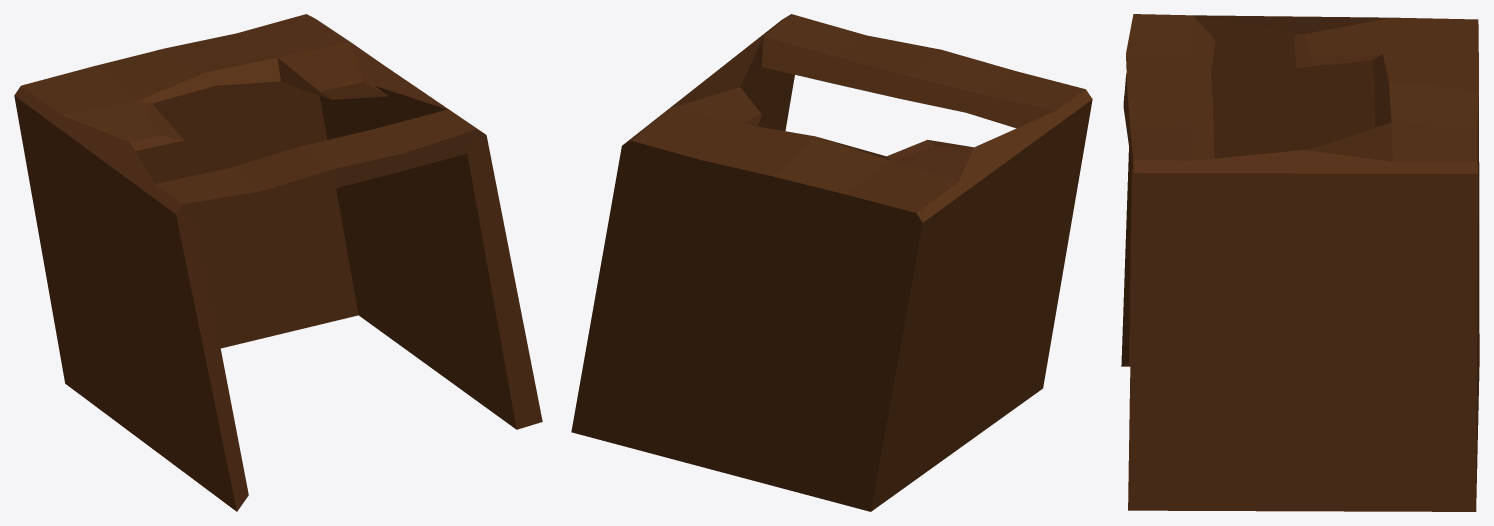
The model's file is woodshelter.fbx.
The picture shows the model from 3 angles, left to right: view 1: azimuth 30°, elevation 25°; view 2: azimuth 150°, elevation 25°; view 3: azimuth 270°, elevation 25°; orthographic projection. The views are drawn at different scales.
Parts seen in each view (by area): view 1: Cube; view 2: Cube; view 3: Cube.
Boxes of the visible parts, x1=… form: Cube: x1=14, y1=14, x2=542, y2=511; Cube: x1=571, y1=14, x2=1092, y2=511; Cube: x1=1121, y1=14, x2=1479, y2=511.
Bounding box in the file's own units: 268 × 227 × 220.
